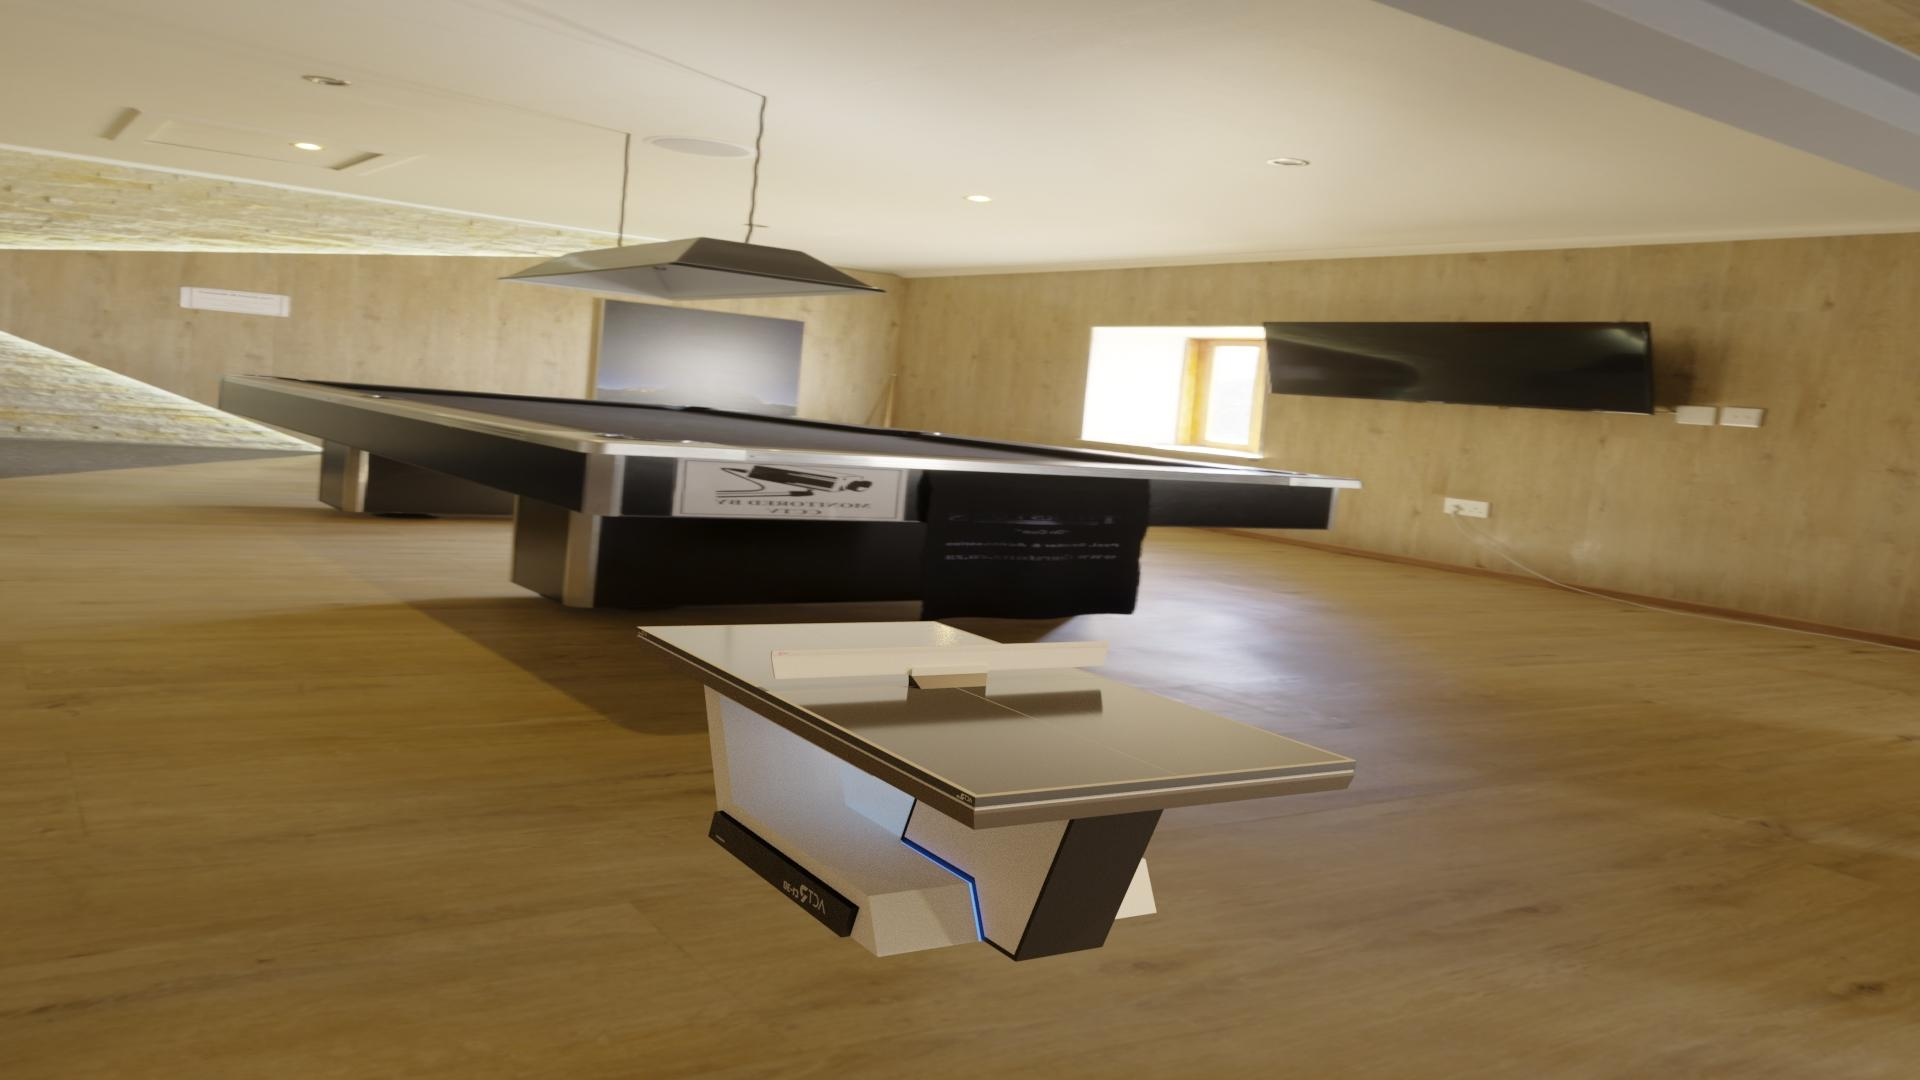table: (642, 622, 1348, 795)
